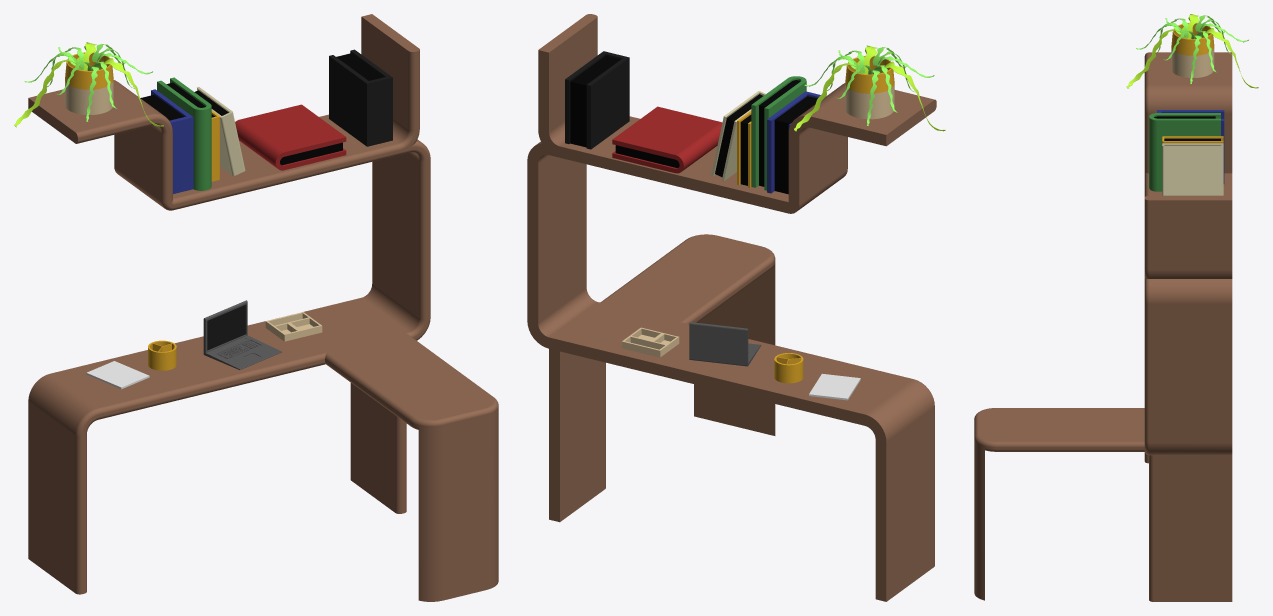
File: Modular Table v0.fbx
3 views of the same model, side by side, from view 1: azimuth 30°, elevation 25°; view 2: azimuth 150°, elevation 25°; view 3: azimuth 270°, elevation 25° (orthographic). The views are drawn at different scales.
Parts seen in each view (by area): view 1: Table Body, File 1, File 2, Laptop, Book 2, Body2, Book 1, Book 4, Stationery Box, Notepad, Pen Holder; view 2: Table Body, File 2, File 1, Laptop, Body2, Book 2, Pages Book 1, Stationery Box, Notepad, Book 4, Book 1, Pen Holder (+5 smaller); view 3: Table Body, Book 4, Book 2, Body2, Book 1.
Boxes of the visible parts, <box> form: Table Body: <box>28,14,498,601</box>; File 1: <box>329,49,392,146</box>; File 2: <box>235,104,346,170</box>; Laptop: <box>203,300,281,369</box>; Book 2: <box>157,77,211,190</box>; Body2: <box>65,52,113,114</box>; Book 1: <box>151,89,193,193</box>; Book 4: <box>197,87,245,175</box>; Stationery Box: <box>265,312,322,341</box>; Notepad: <box>86,361,149,389</box>; Pen Holder: <box>148,340,176,370</box>; Table Body: <box>527,14,936,601</box>; File 2: <box>612,106,722,173</box>; File 1: <box>565,51,629,149</box>; Laptop: <box>689,322,761,365</box>; Body2: <box>845,55,894,119</box>; Book 2: <box>751,76,806,190</box>; Pages Book 1: <box>774,96,817,194</box>; Stationery Box: <box>622,327,679,357</box>; Notepad: <box>809,373,860,400</box>; Book 4: <box>711,91,765,181</box>; Book 1: <box>767,91,820,193</box>; Pen Holder: <box>774,353,803,383</box>; Table Body: <box>974,52,1232,601</box>; Book 4: <box>1162,143,1223,195</box>; Book 2: <box>1149,113,1220,191</box>; Body2: <box>1171,23,1214,77</box>; Book 1: <box>1157,110,1224,183</box>.
Bounding box in the file's own units: 4.54 × 5.69 × 3.25.
